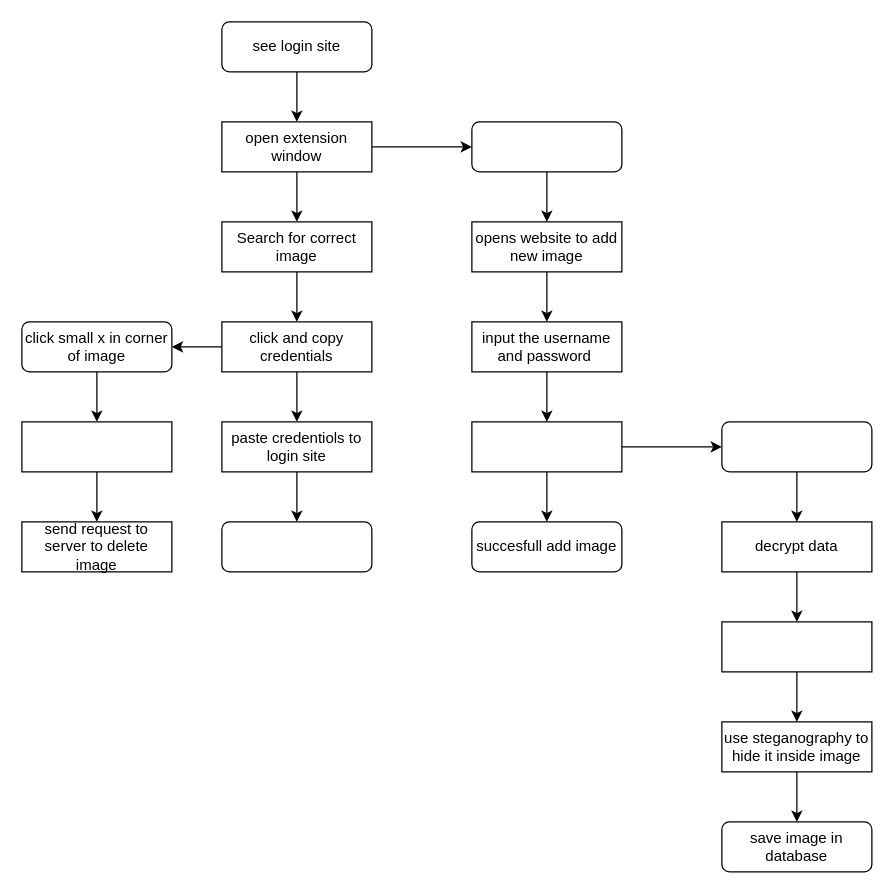
Some shapes in this 894 by 894 pixel diagram are drawn without their labels. The shapes that lost their labels are listed below. From the top down, each one's centre as x and y in pixels, then its label:
(546,146): click new image
(96,446): make sure its not a missclick
(546,446): add an image and save(encrypt)
(796,446): send data to server
(296,546): succesful login
(796,646): encrypt pass and username
